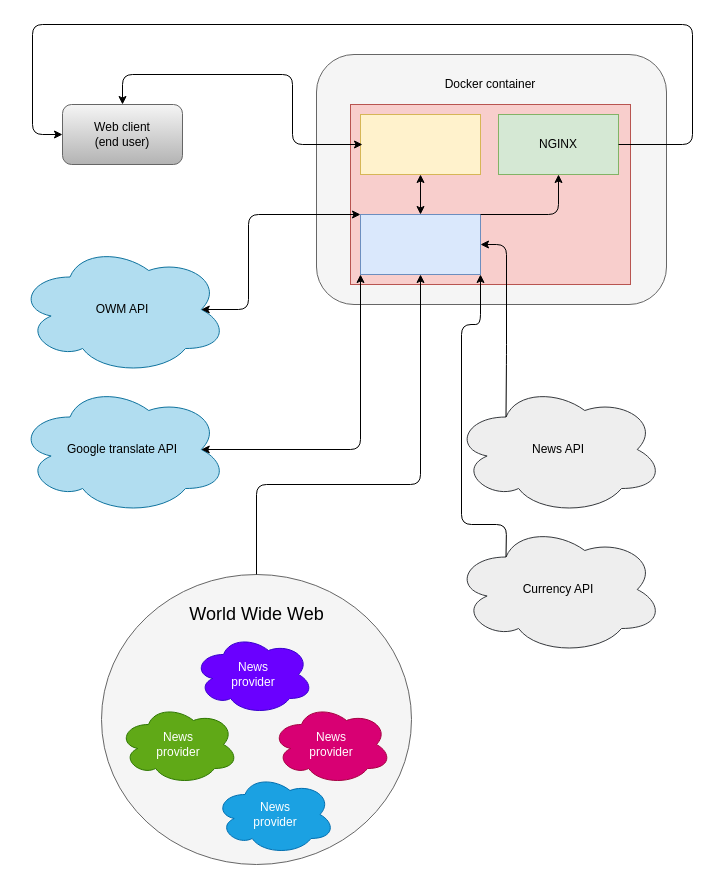
This 718x882 diagram has some shape labels left out. The shapes that lost their labels are listed below. From the top down, each one's box as (x1, y1, x2, y2) in pixels, then its label:
(360, 114, 480, 174): Node JS
(350, 104, 630, 284): Centos:latest
(360, 214, 480, 274): Python 3
